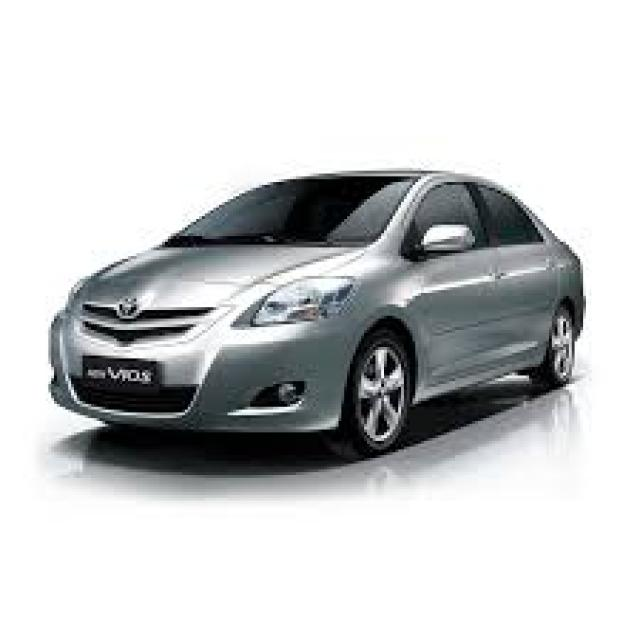ToyotaVios: (45, 165, 586, 461)
